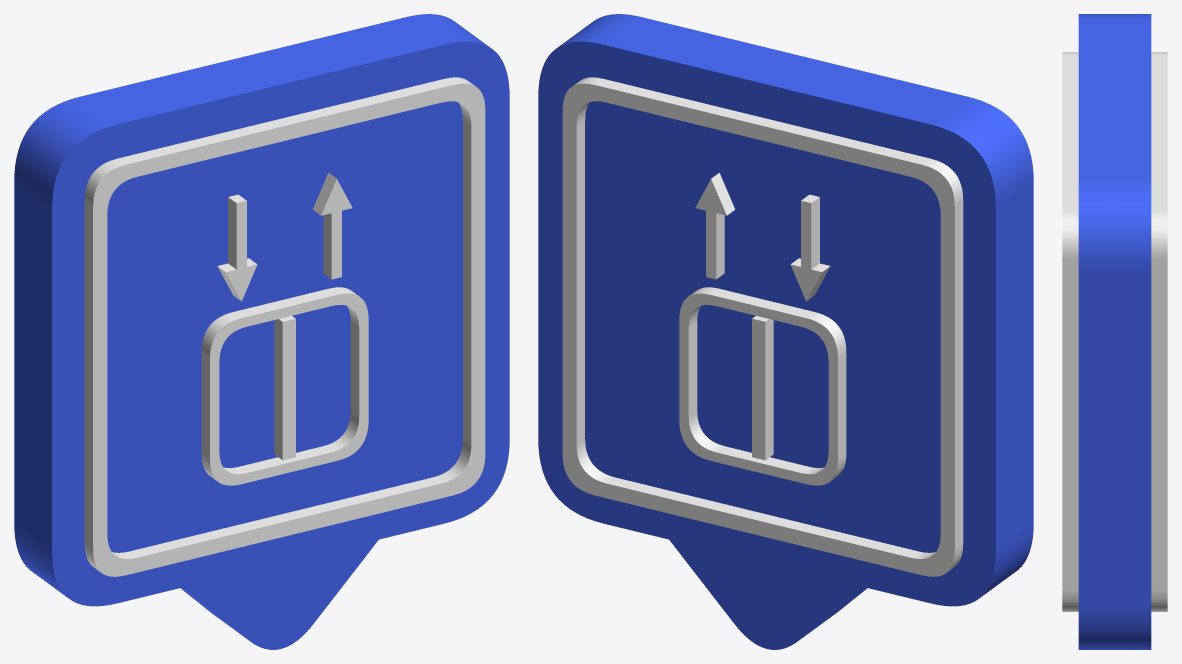
The model's file is elevater_3d.glb.
The picture shows the model from 3 angles, left to right: view 1: azimuth 30°, elevation 25°; view 2: azimuth 150°, elevation 25°; view 3: azimuth 270°, elevation 25°; orthographic projection. The views are drawn at different scales.
Size of the model in its own units: 0.2885 by 0.34 by 0.0596.
